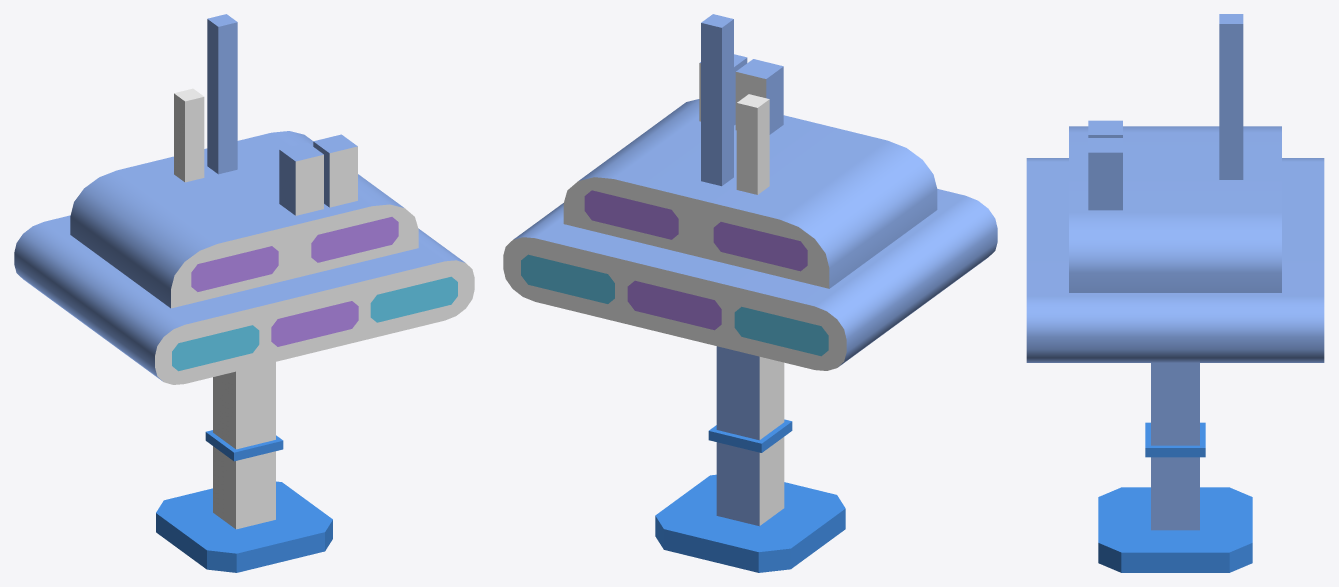
File: Building_039.fbx
The picture shows the model from 3 angles, left to right: view 1: azimuth 30°, elevation 25°; view 2: azimuth 150°, elevation 25°; view 3: azimuth 270°, elevation 25°; orthographic projection. The views are drawn at different scales.
Visible parts, largest first — view 1: Building_039; view 2: Building_039; view 3: Building_039.
Boxes of the visible parts, box(x1,y1,x2,y2) form: Building_039: box(14, 14, 474, 572); Building_039: box(503, 14, 997, 572); Building_039: box(1026, 14, 1324, 572).
Bounding box in the file's own units: 27.63 × 40.86 × 21.1.
